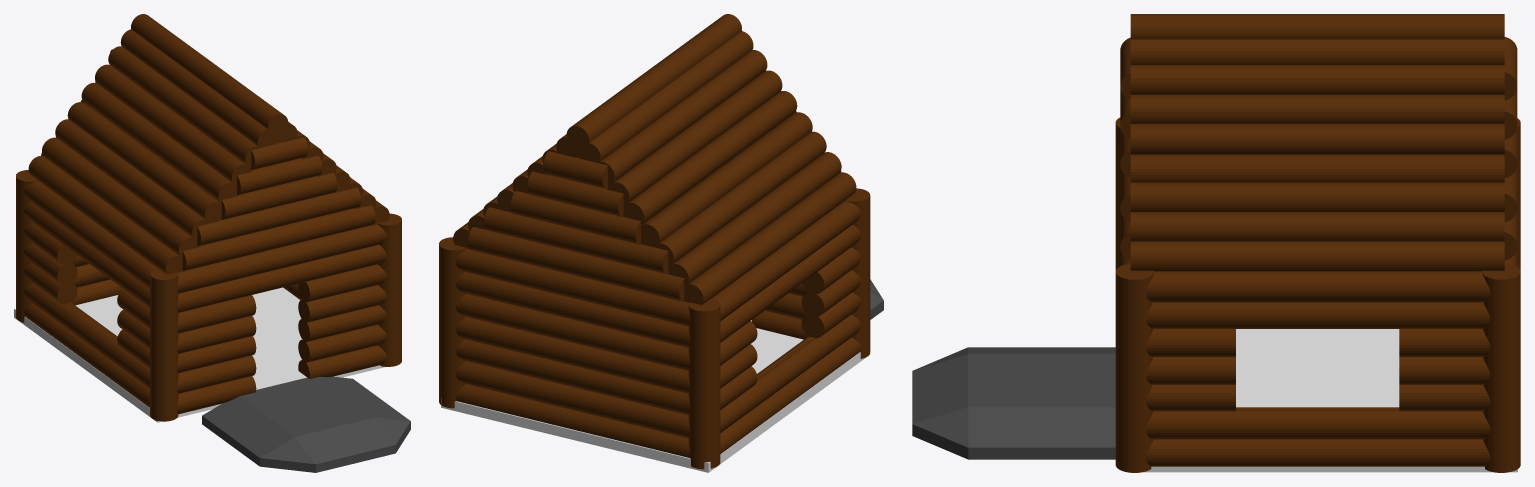
File: LogCabin.glb
The picture shows the model from 3 angles, left to right: view 1: azimuth 30°, elevation 25°; view 2: azimuth 150°, elevation 25°; view 3: azimuth 270°, elevation 25°; orthographic projection. The views are drawn at different scales.
Visible parts, largest first — view 1: Cube -col, FRONT -col; view 2: Cube -col; view 3: Cube -col, FRONT -col.
Boxes of the visible parts, bbox=[...] form: Cube -col: bbox=[14, 14, 401, 422]; FRONT -col: bbox=[202, 376, 410, 472]; Cube -col: bbox=[439, 14, 870, 472]; Cube -col: bbox=[1115, 14, 1520, 472]; FRONT -col: bbox=[912, 347, 1115, 459].
Bounding box in the file's own units: 10.46 × 11.67 × 16.28.
